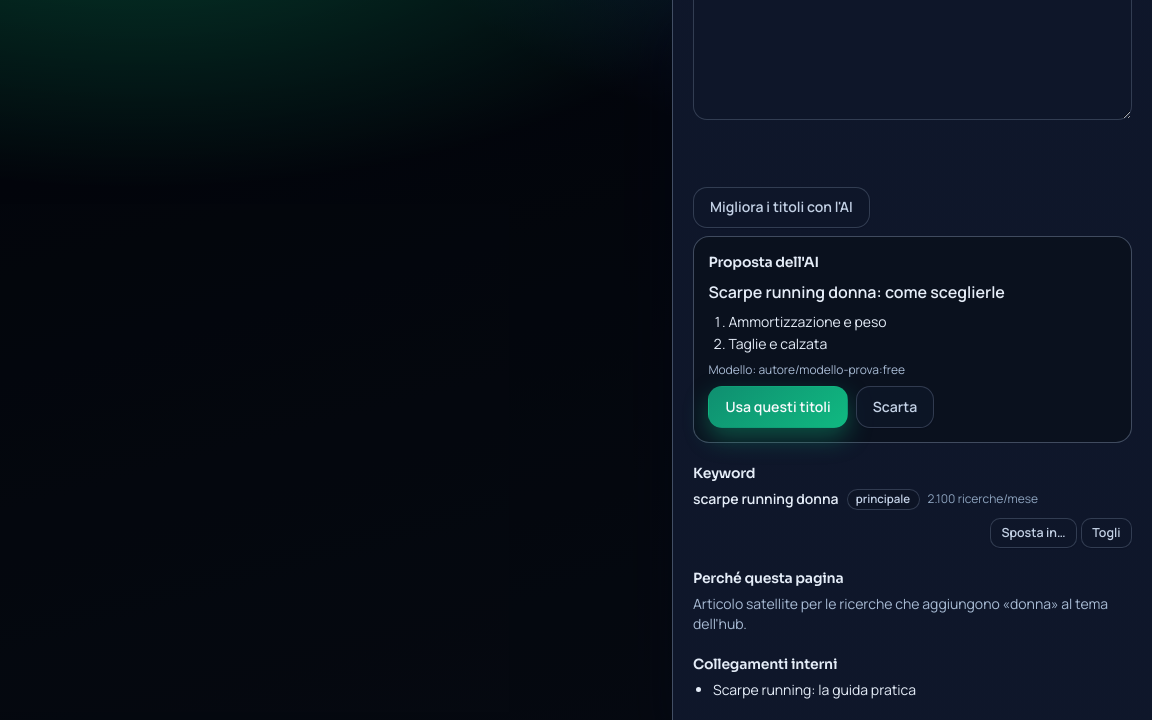
Test: titoli con l'AI nel pannello della pagina › un 409 STRATEGY_CONFLICT su «Usa questi titoli» mostra il messaggio e la card resta
(page scrolled)
Click the button "Usa questi titoli".
click(778, 407)  # box [708,386,848,428]
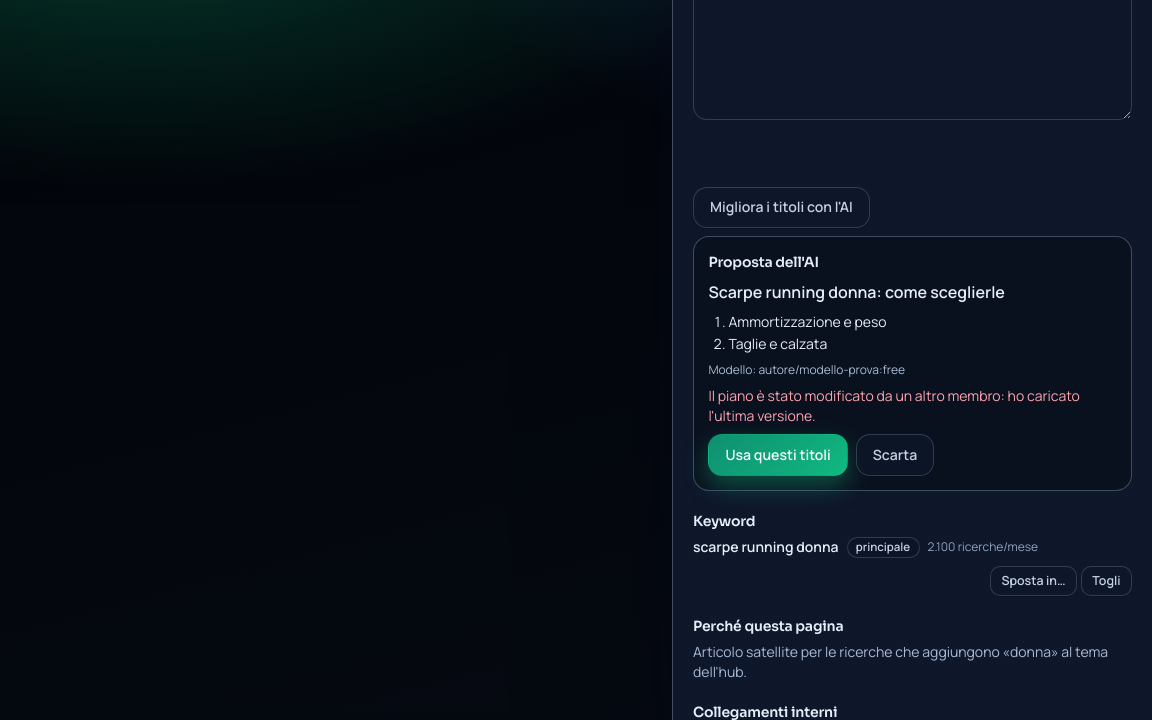
Result: the message "Il piano è stato modificato da un altro membro: ho caricato l'ultima versione." is shown at [708,386,1117,426]
